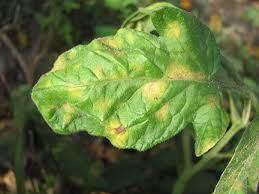leaf_spot: (27, 4, 232, 159)
